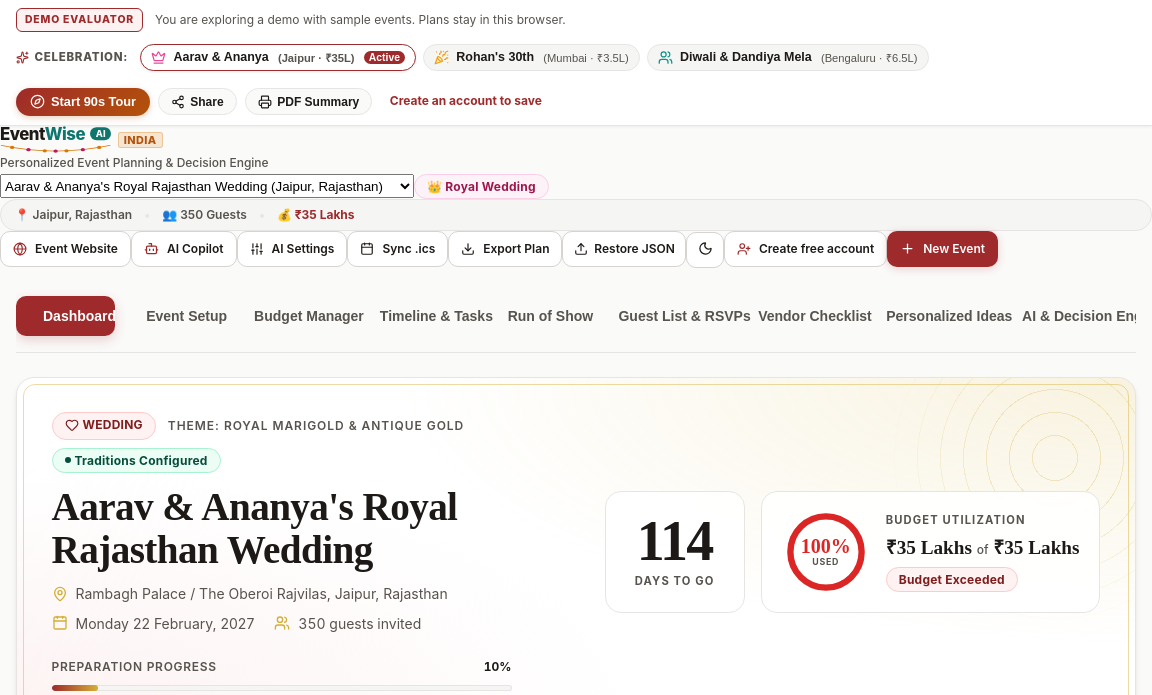
EventWise AI UI & Workflow Integration Tests › allows adding and editing an expense in the Budget Manager
The image size is (1152, 695).
# Navigate to budget tab
Click the button "Budget Manager" at [288, 316], box [227,296,349,336]
(page scrolled)
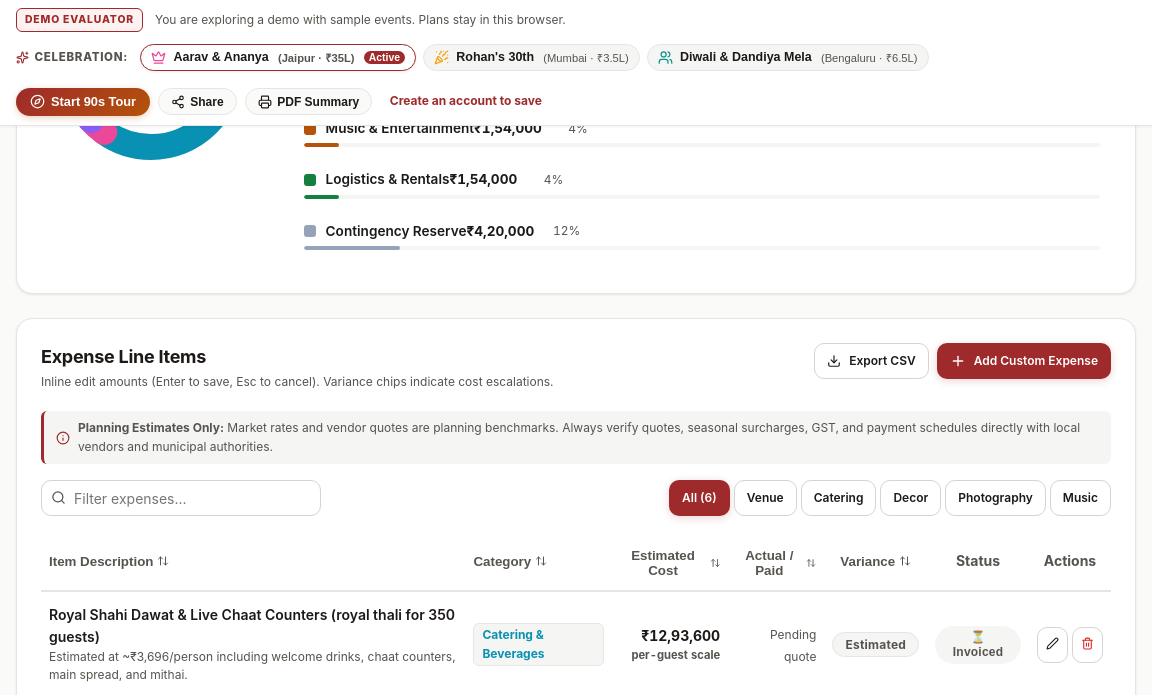
# Click Add Custom Expense
Click the button "Add Custom Expense" at [1024, 361], box [937,343,1111,379]
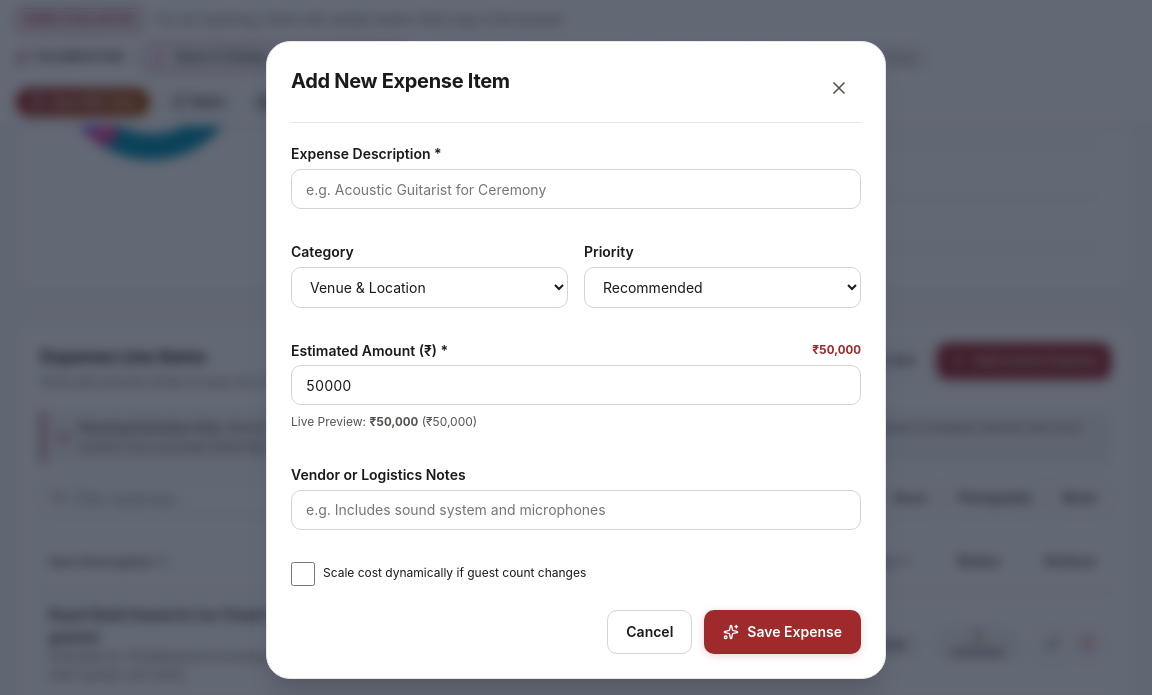
expect the heading "Add New Expense Item" is shown: met, box [291,66,510,97]
Type "Live Jazz Trio" into the field labelled "Expense Description *" at [576, 189], box [291,169,861,209]
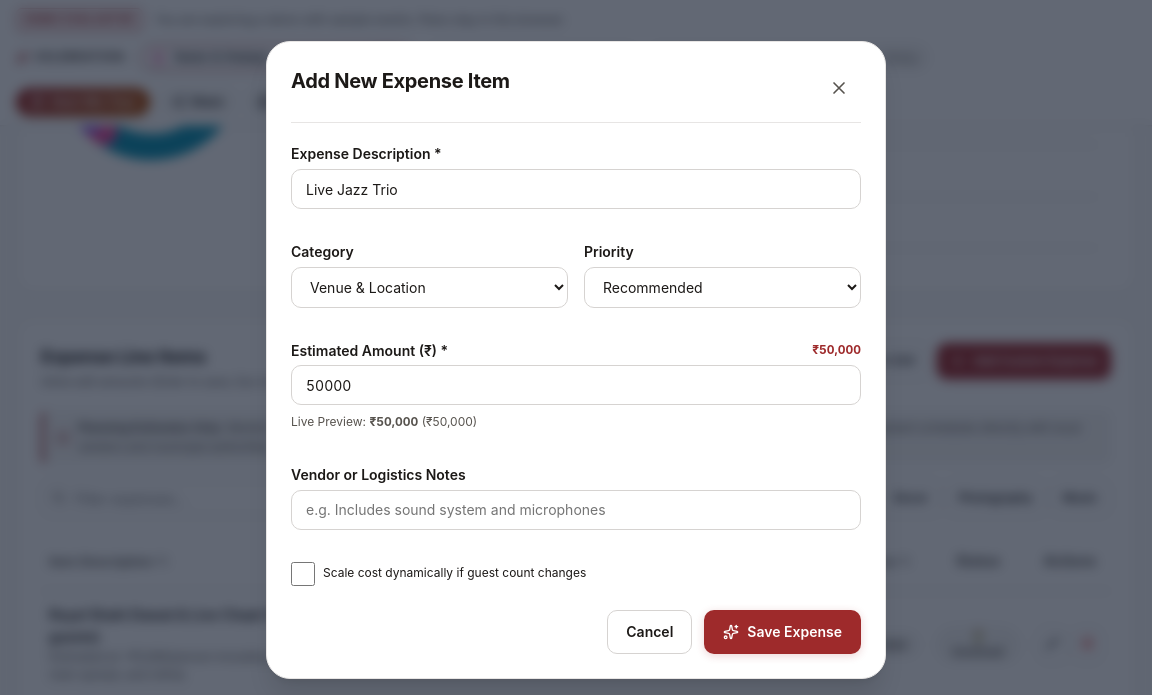
Replace the text in the number field labelled "Estimated Amount (₹) *" with "1800" at [576, 385], box [291,365,861,405]
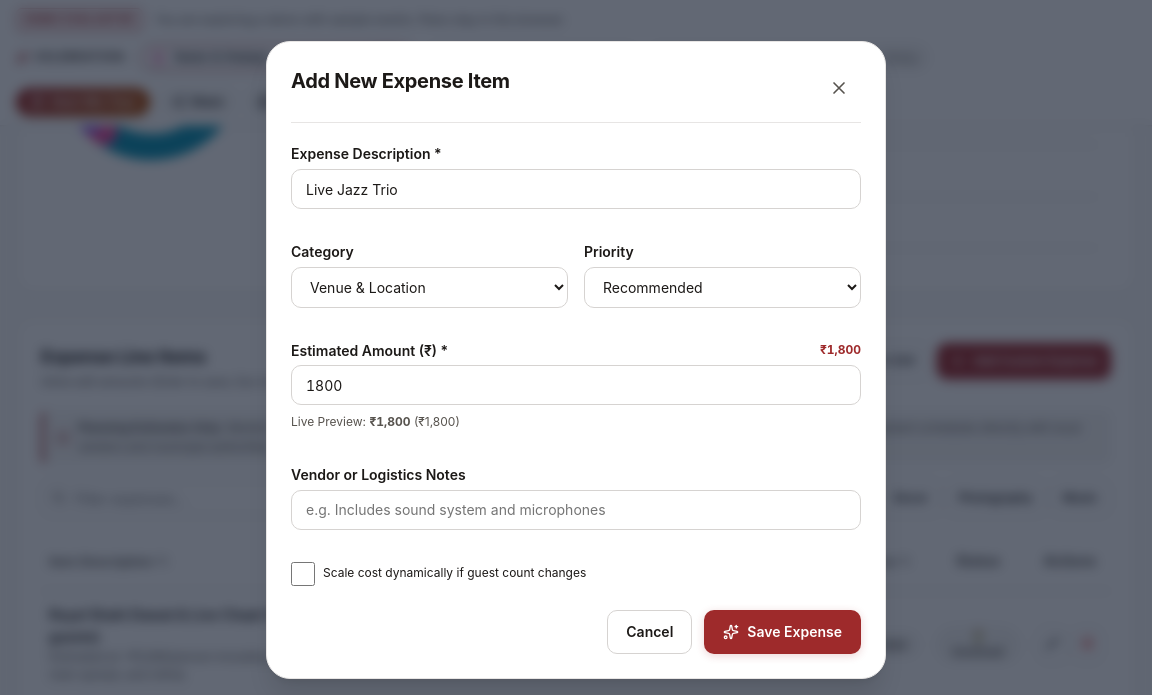
# Submit new expense
Click the button "Save Expense" at [783, 632], box [704,610,861,654]
(page scrolled)
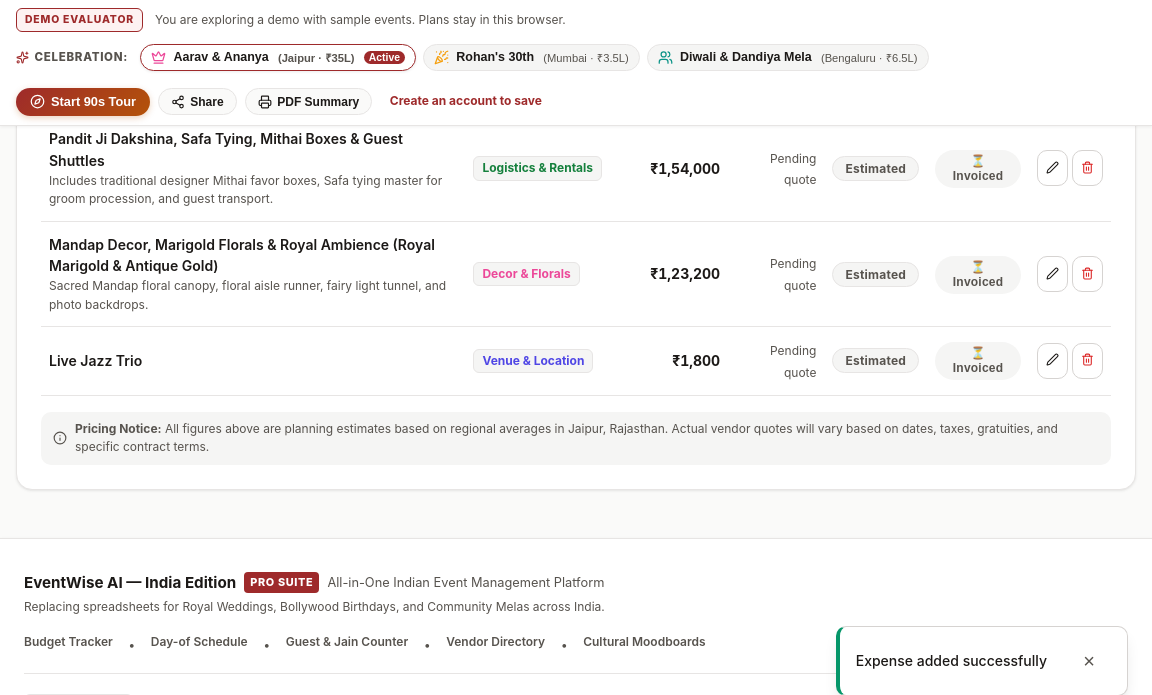
expect the text "Live Jazz Trio" is shown: met, box [49,352,142,369]
